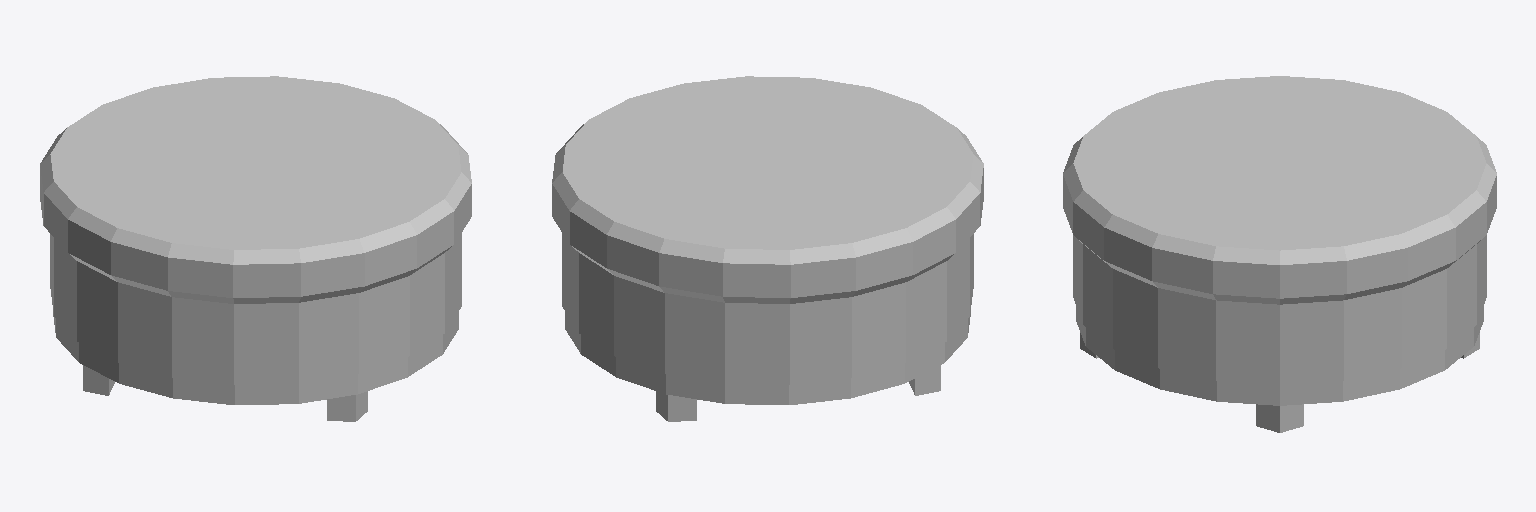
Rendered from Low_Poly_Ottoman.obj.
3 renders of one model, left to right at view 1: azimuth 30°, elevation 25°; view 2: azimuth 150°, elevation 25°; view 3: azimuth 270°, elevation 25°, orthographic.
Visible parts, largest first — view 1: Low_Poly_Ottoman; view 2: Low_Poly_Ottoman; view 3: Low_Poly_Ottoman.
Boxes of the visible parts, x1,y1,x2,y2 form: Low_Poly_Ottoman: [40, 76, 471, 421]; Low_Poly_Ottoman: [552, 76, 983, 421]; Low_Poly_Ottoman: [1063, 76, 1496, 432].
Bounding box in the file's own units: 11.41 × 5.38 × 11.41.